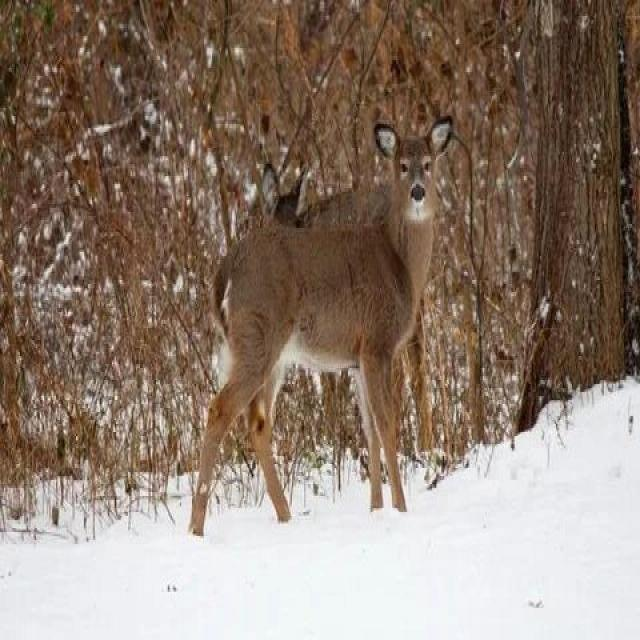deer: (178, 61, 503, 534)
